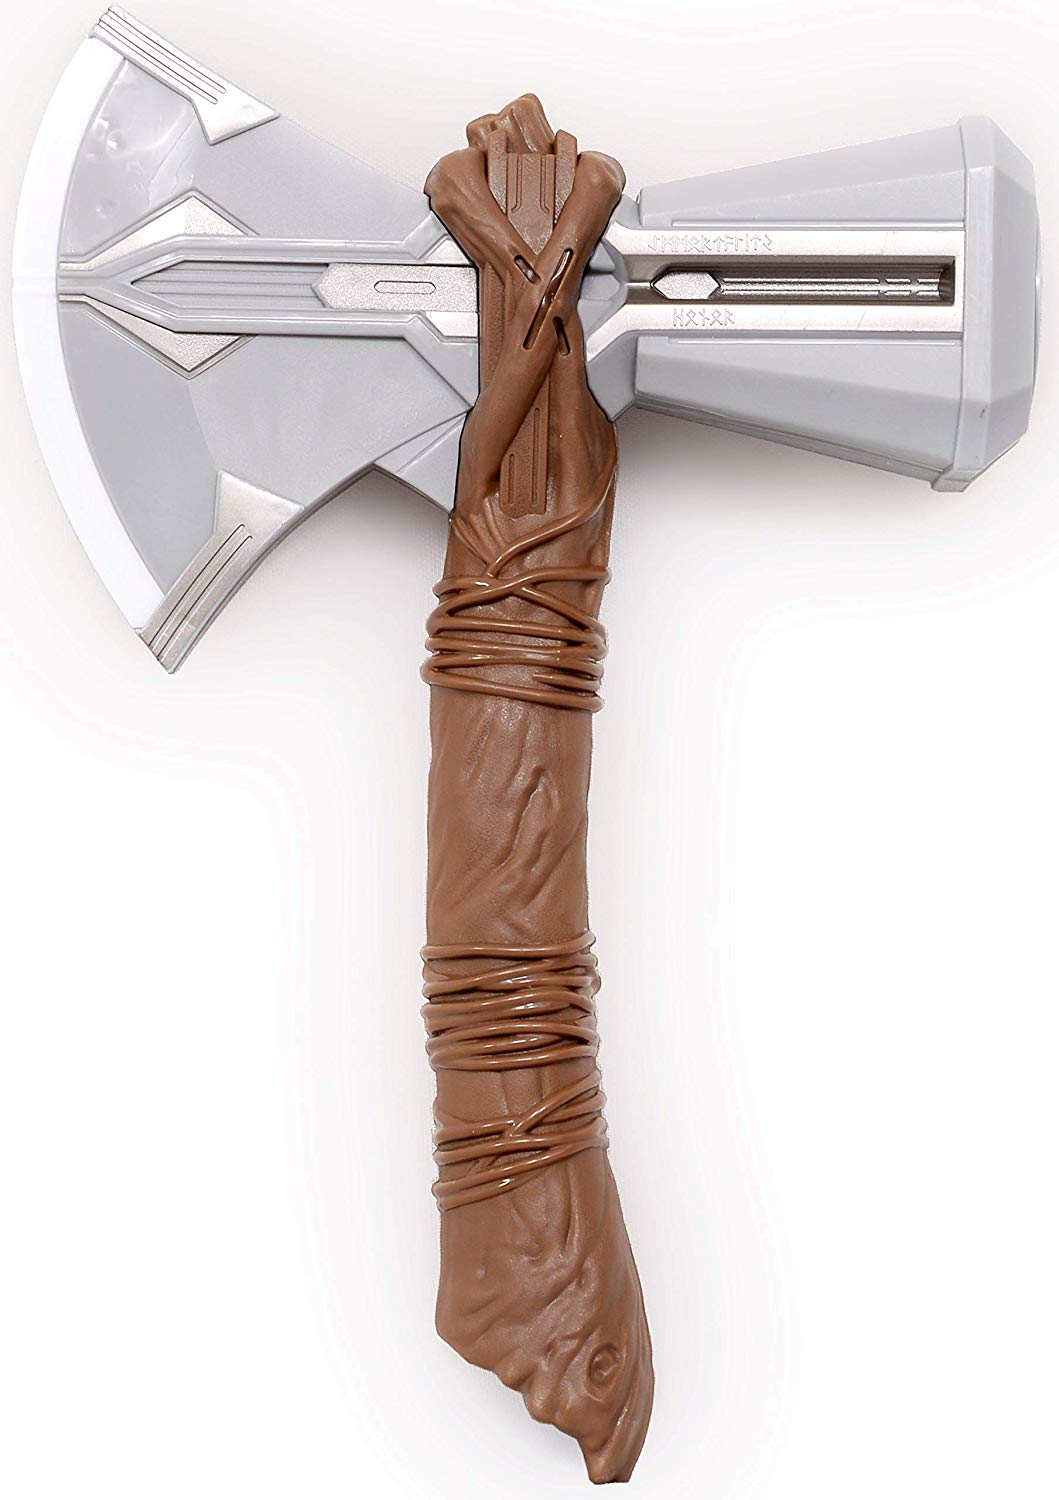THOR Hammer: (36, 29, 1020, 1474)
